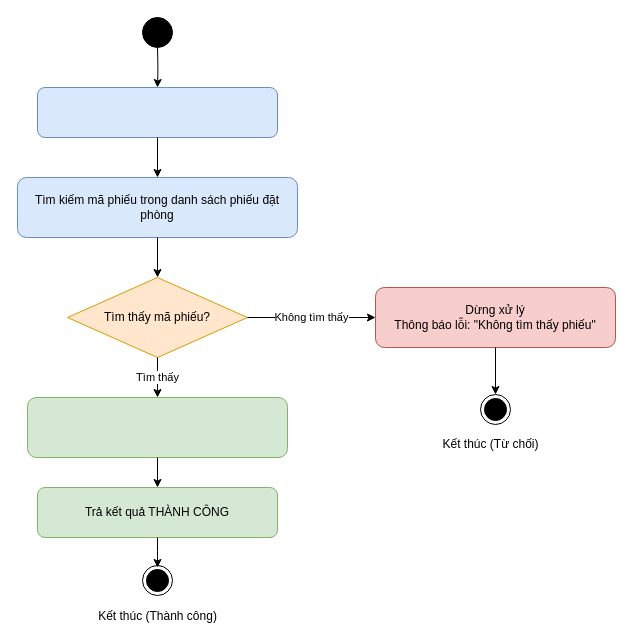
This 633x641 diagram has some shape labels left out. Here are the shapes that lost their labels. From the top down, the centre of each, then its label:
At point (157, 112): "Nhập mã phiếu cần hủy".
At point (157, 427): "Hủy phiếu đặt phòng (cập nhật trạng thái phiếu)".
